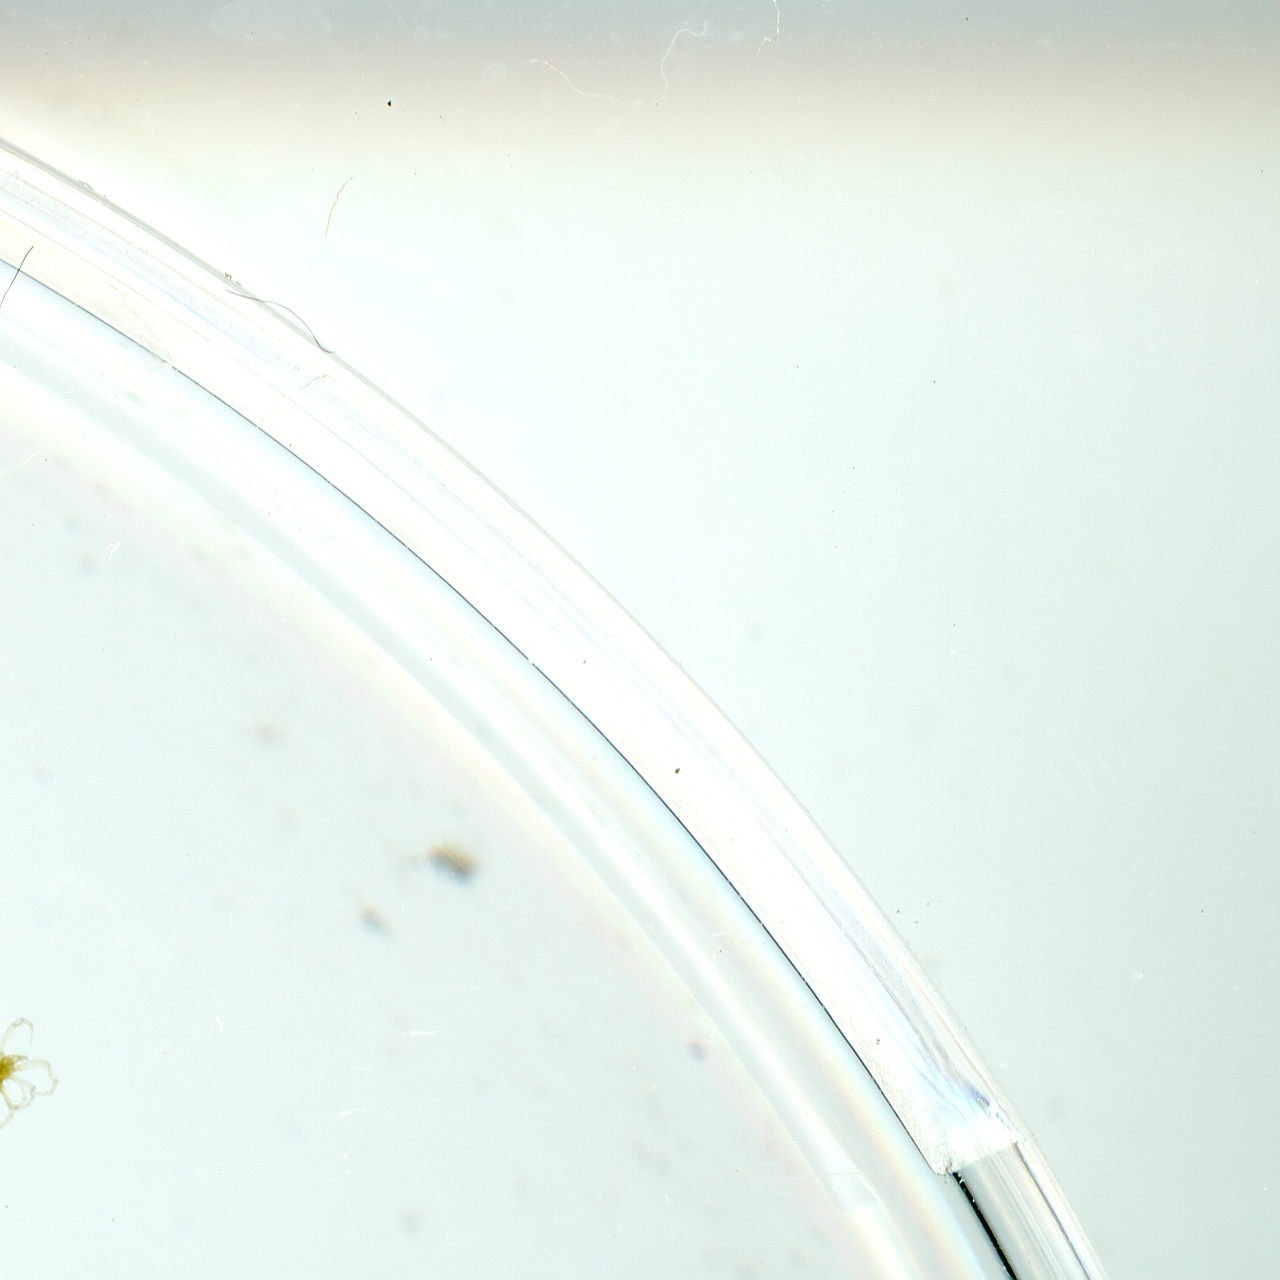arthropod: (0, 1001, 90, 1158)
